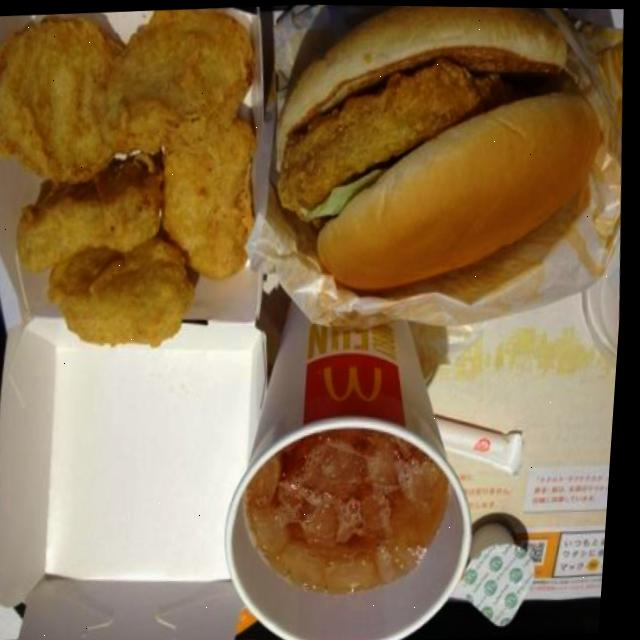汉堡快餐: (248, 3, 620, 337)
